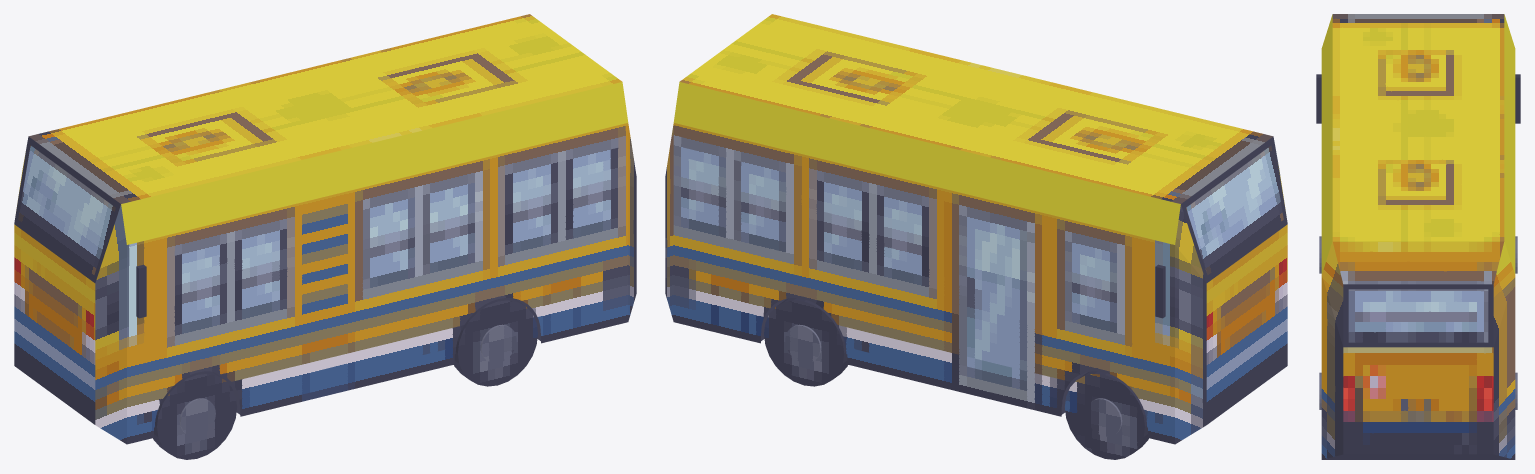
Rendered from bus-2-v1.glb.
3 renders of one model, left to right at view 1: azimuth 30°, elevation 25°; view 2: azimuth 150°, elevation 25°; view 3: azimuth 270°, elevation 25°, orthographic. The views are drawn at different scales.
Visible parts, largest first — view 1: Bus-body-west, Roof, Roof-shoulder-west, Front-fascia, Windshield-glass, Front-corner-west, Tire_FL, Tire_RL, Windshield-frame, Rear-corner-west, Hub_FL, Hub_RL (+1 smaller); view 2: Bus-body-east, Roof, Roof-shoulder-east, Front-fascia, Windshield-glass, Front-corner-east, Tire_FR, Tire_RR, Windshield-frame, Rear-corner-east, Hub_FR, Hub_RR (+1 smaller); view 3: Roof, Rear-fascia, Rear-window-glass, Rear-roof-edge, Rear-corner-east, Rear-corner-west, Roof-shoulder-east, Roof-shoulder-west, Rear-window-frame, Rear-roof-corner-east, Rear-roof-corner-west, Underfloor-rear-bevel (+2 smaller).
Boxes of the visible parts, box(x1,y1,x2,y2) form: Bus-body-west: box(127, 123, 628, 444); Roof: box(29, 14, 621, 203); Roof-shoulder-west: box(121, 82, 628, 244); Front-fascia: box(14, 224, 95, 424); Windshield-glass: box(18, 145, 115, 274); Front-corner-west: box(95, 245, 126, 444); Tire_FL: box(153, 371, 236, 459); Tire_RL: box(454, 298, 537, 386); Windshield-frame: box(14, 136, 120, 282); Rear-corner-west: box(628, 124, 636, 321); Hub_FL: box(179, 398, 215, 436); Hub_RL: box(480, 324, 516, 363); Bus-body-east: box(673, 123, 1174, 444); Roof: box(680, 14, 1272, 203); Roof-shoulder-east: box(673, 82, 1180, 244); Front-fascia: box(1206, 224, 1287, 424); Windshield-glass: box(1186, 145, 1283, 274); Front-corner-east: box(1175, 245, 1206, 444); Tire_FR: box(1065, 371, 1148, 459); Tire_RR: box(764, 298, 847, 386); Windshield-frame: box(1181, 136, 1287, 282); Rear-corner-east: box(665, 124, 673, 321); Hub_FR: box(1086, 398, 1122, 436); Hub_RR: box(785, 324, 821, 363); Roof: box(1332, 14, 1504, 240); Rear-fascia: box(1343, 347, 1493, 454); Rear-window-glass: box(1348, 289, 1488, 342); Rear-roof-edge: box(1332, 241, 1504, 284); Rear-corner-east: box(1493, 275, 1515, 459); Rear-corner-west: box(1321, 275, 1343, 459); Roof-shoulder-east: box(1504, 14, 1515, 274); Roof-shoulder-west: box(1321, 14, 1332, 274); Rear-window-frame: box(1343, 284, 1493, 347); Rear-roof-corner-east: box(1493, 241, 1514, 346); Rear-roof-corner-west: box(1322, 241, 1343, 346); Underfloor-rear-bevel: box(1322, 454, 1514, 459).
Bounding box in the file's own units: 108 × 51 × 38.
1 material, 1 textured.
